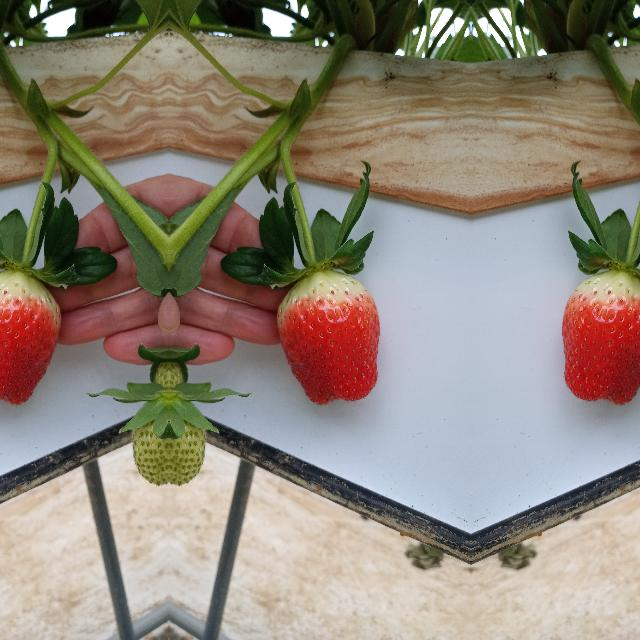Health_100: (276, 270, 380, 406), (561, 270, 640, 406), (0, 270, 60, 406)
Health_25: (168, 379, 228, 487), (108, 379, 168, 487)
